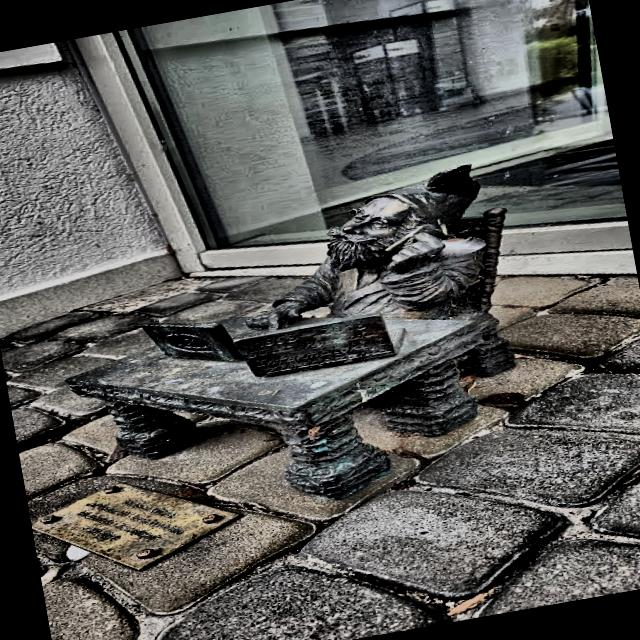WIZek: (68, 165, 514, 499)
